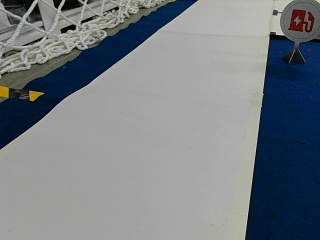battery: (279, 0, 319, 41)
